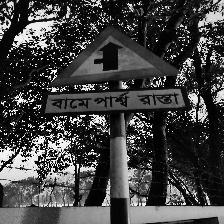Side-road-left: (43, 25, 188, 118)
